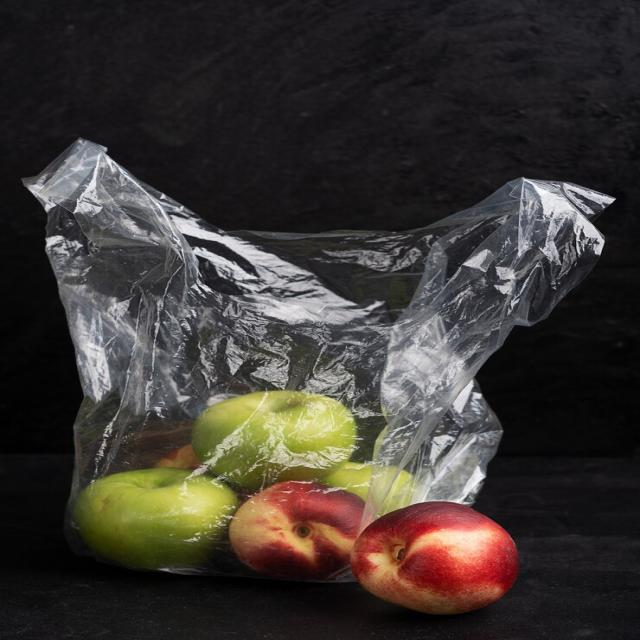apple_fruit: (318, 492, 562, 604)
plastic_bag: (14, 108, 639, 605)
